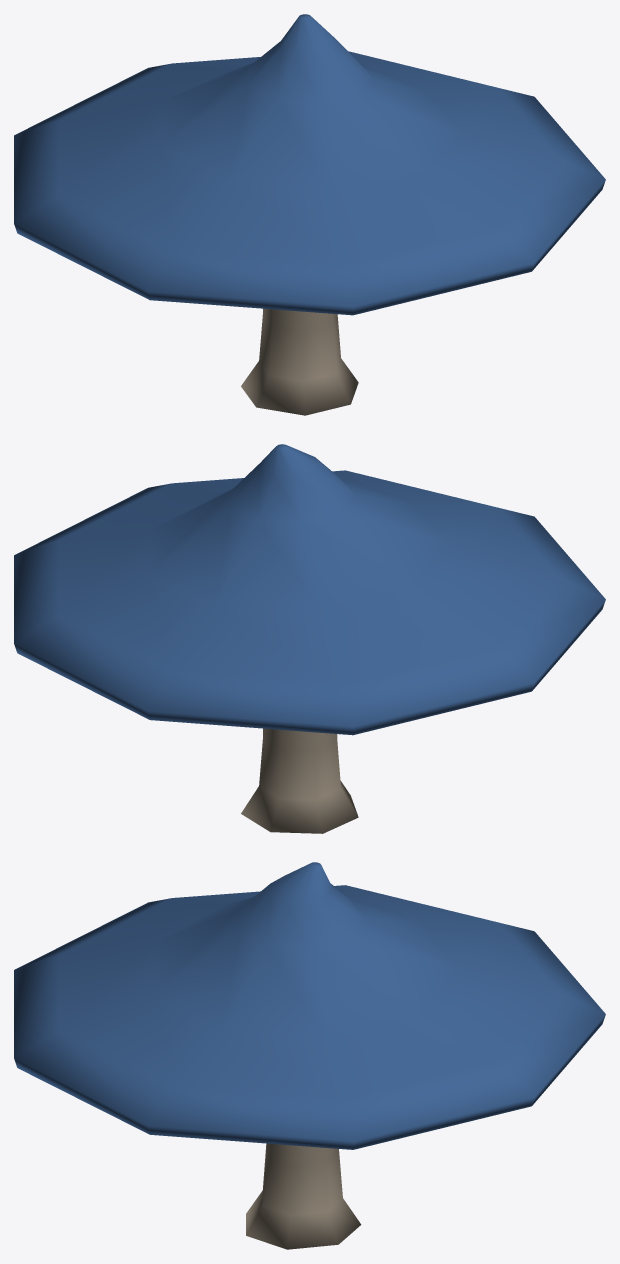
Rendered from mushroom.glb.
3 views of the same model, one above another, from view 1: azimuth 30°, elevation 25°; view 2: azimuth 150°, elevation 25°; view 3: azimuth 270°, elevation 25° (orthographic).
Visible parts, largest first — view 1: Circle.001, Circle; view 2: Circle.001, Circle; view 3: Circle.001, Circle.
Part boxes in pixels (box(x1,y1,x2,y2)): Circle.001: box(14, 14, 605, 315); Circle: box(241, 308, 358, 415); Circle.001: box(14, 444, 605, 735); Circle: box(241, 728, 358, 833); Circle.001: box(14, 862, 605, 1149); Circle: box(246, 1143, 361, 1249).
Bounding box in the file's own units: 27.81 × 18.69 × 27.39.
